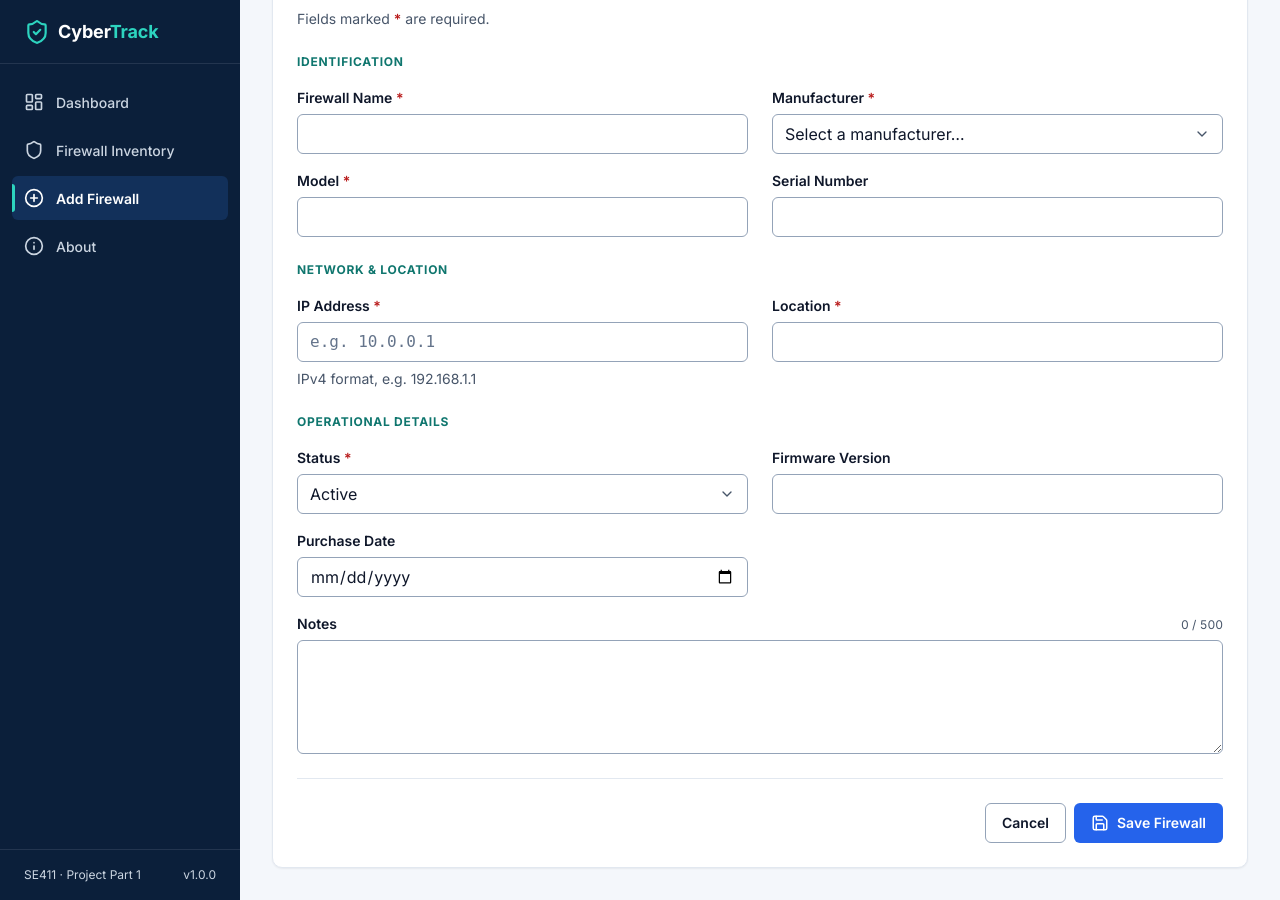
Add Firewall › shows inline errors and does not save when required fields are empty
The width and height of the screenshot is (1280, 900).
(page scrolled)
Click the button "Save Firewall": [1148, 823] box [1074, 803, 1223, 843]
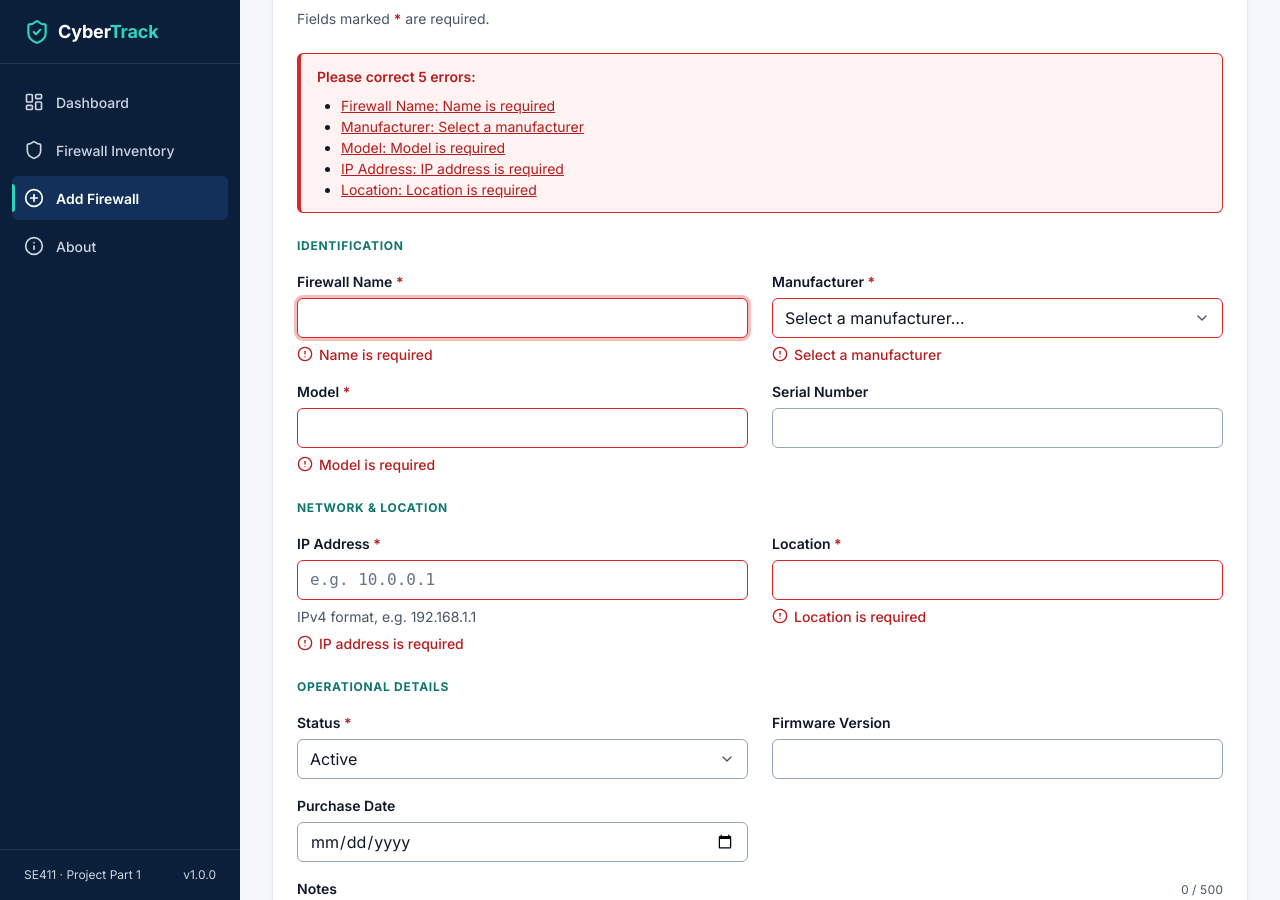
Now the text "Name is required" is shown, box [297, 346, 433, 363]
Now the message shows "Please correct 5 errors", box [297, 53, 1223, 213]
